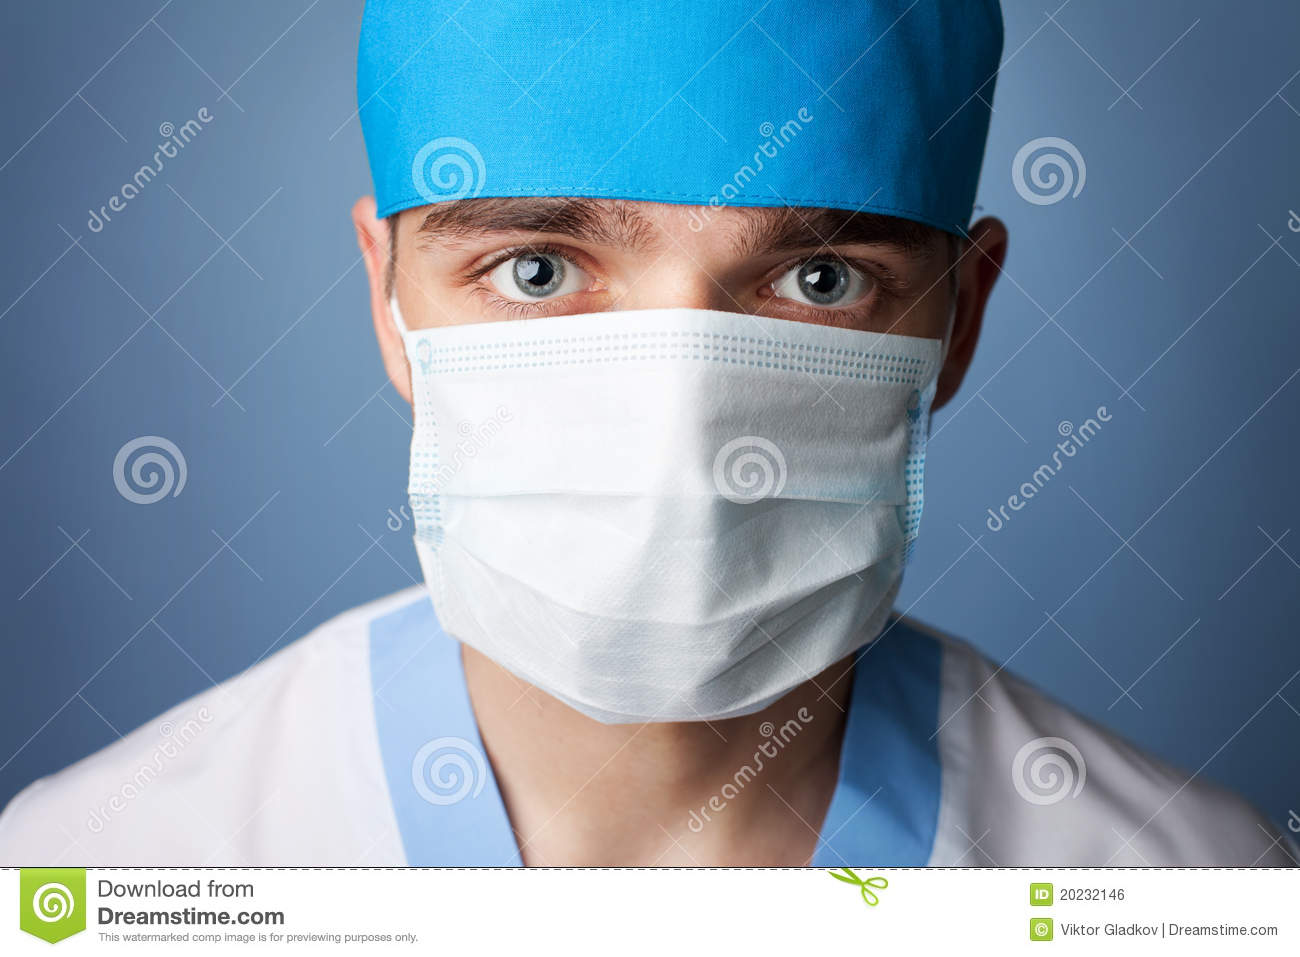mask: (406, 313, 926, 689)
